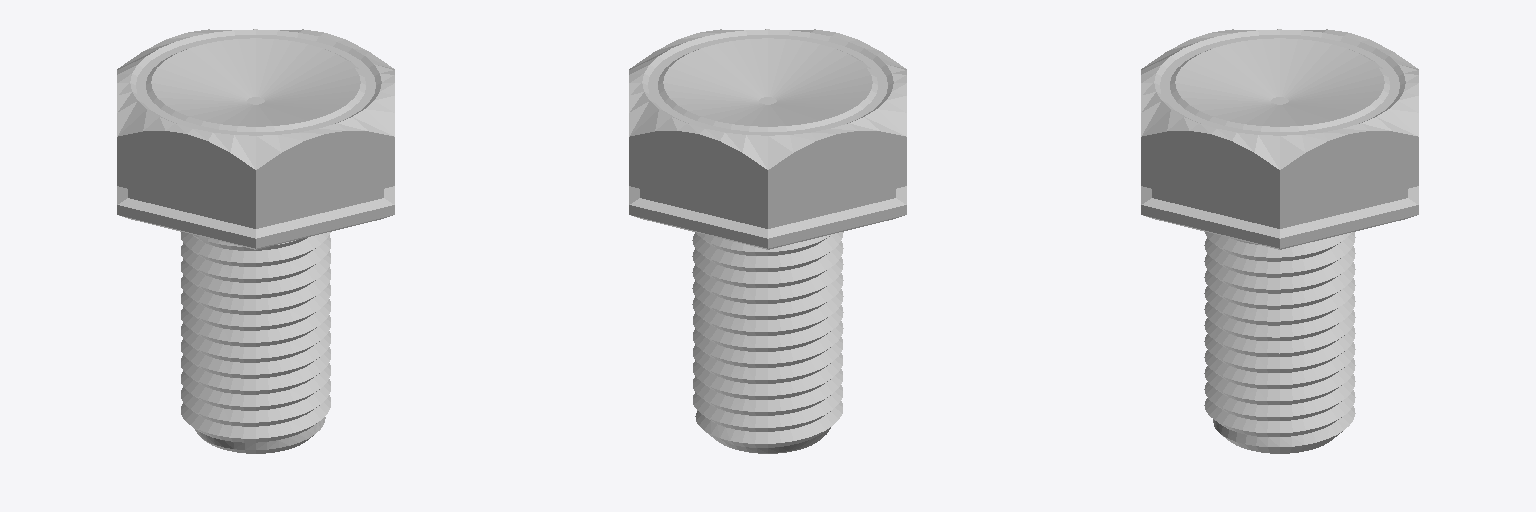
The model's file is Scrap.obj.
3 renders of one model, left to right at view 1: azimuth 30°, elevation 25°; view 2: azimuth 150°, elevation 25°; view 3: azimuth 270°, elevation 25°, orthographic.
Visible parts, largest first — view 1: Scrap_Bolt; view 2: Scrap_Bolt; view 3: Scrap_Bolt.
Boxes of the visible parts, <box> form: Scrap_Bolt: <box>117,29,394,453</box>; Scrap_Bolt: <box>629,29,906,453</box>; Scrap_Bolt: <box>1141,29,1418,453</box>.
Size of the model in its own units: 6.35 by 7.6 by 5.5.